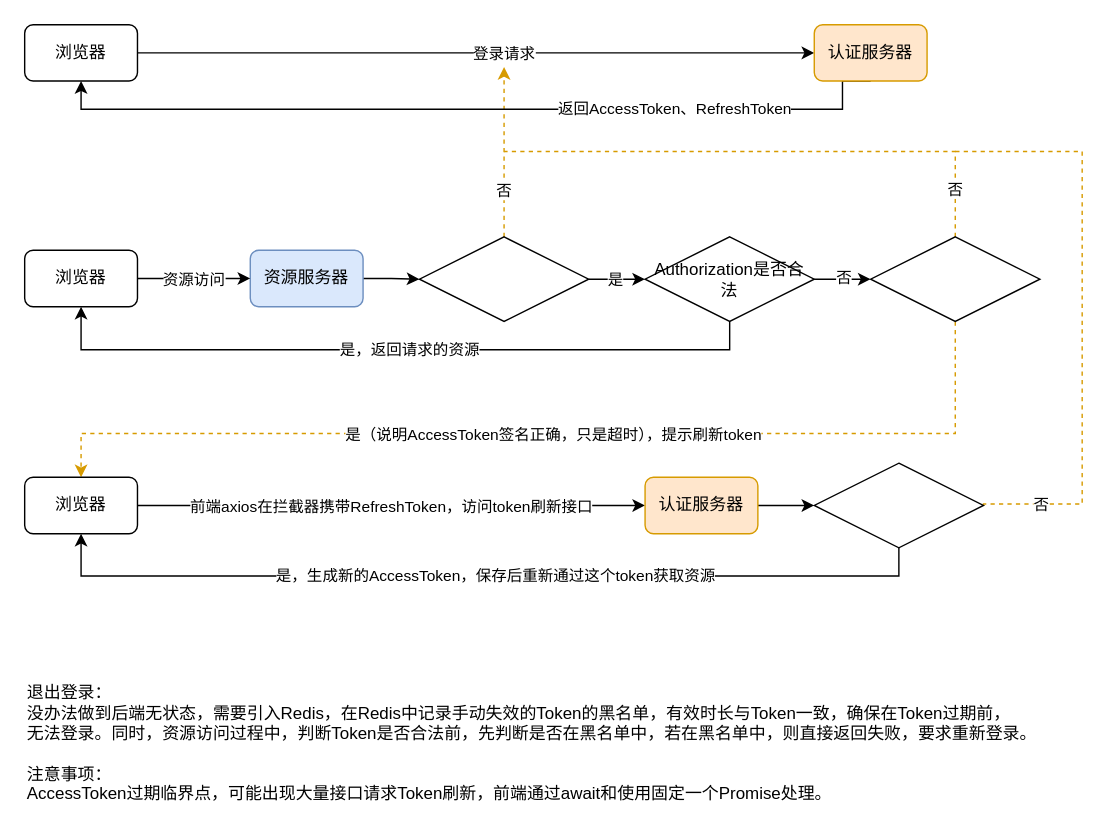
Image size: 1108x839. Some labels were removed from this diagram. Each missing label, with the centre of its shape:
判断Jwt签名是否合法: (954,278)
请求头是否携带 Authorization: (503,278)
请求头是否携带 Authorization 且合法: (898,505)
